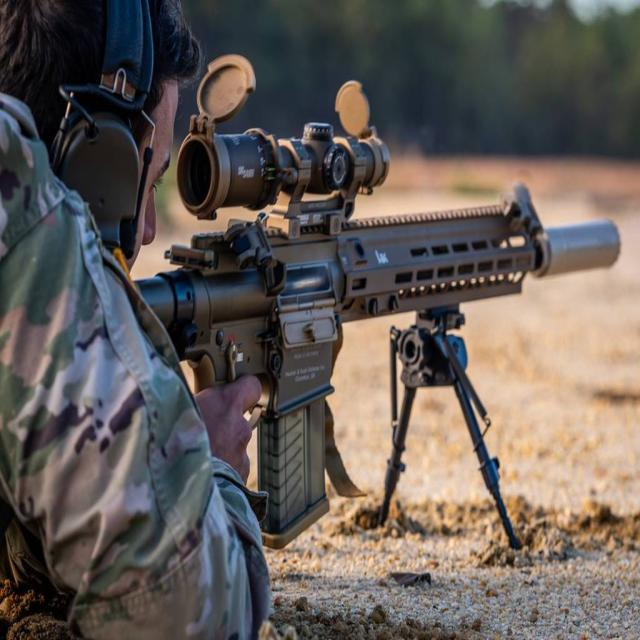Rifle: (134, 116, 622, 547)
